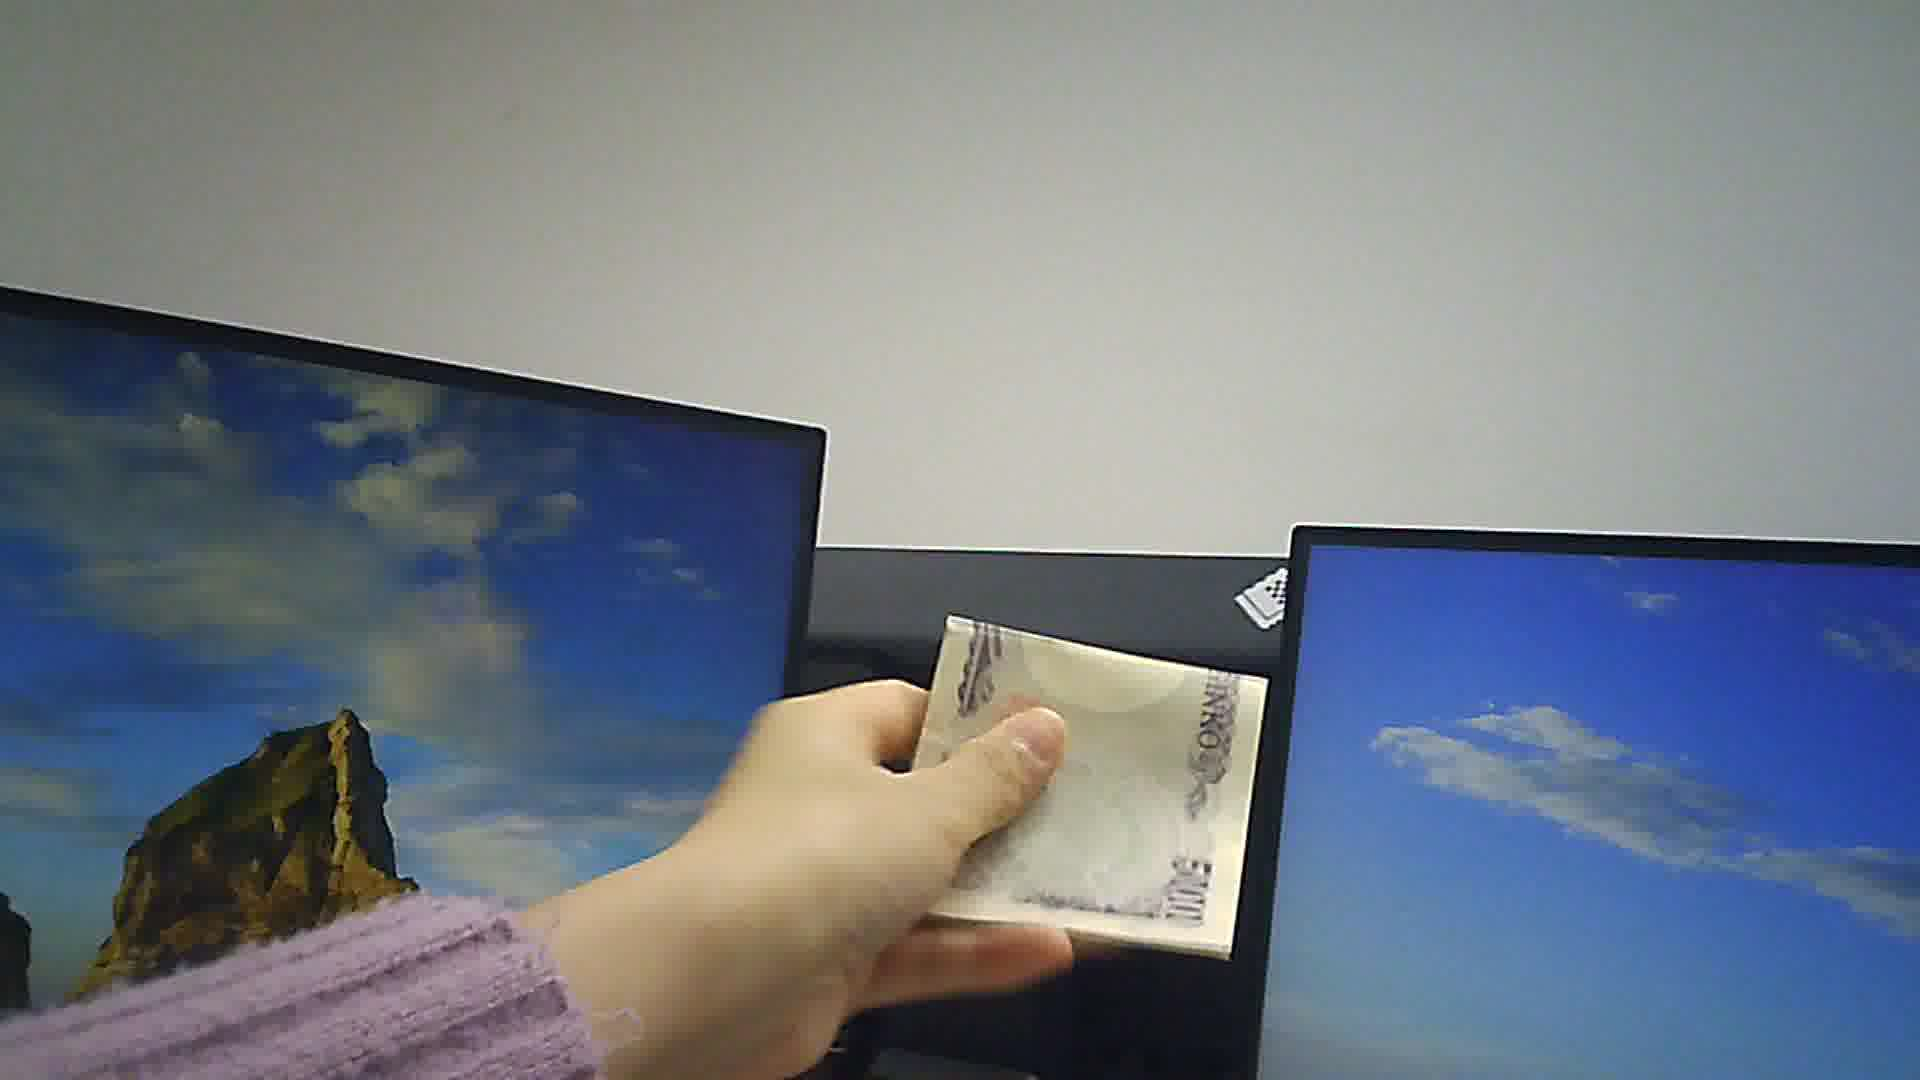5,000 Yen: (895, 601, 1283, 960)
